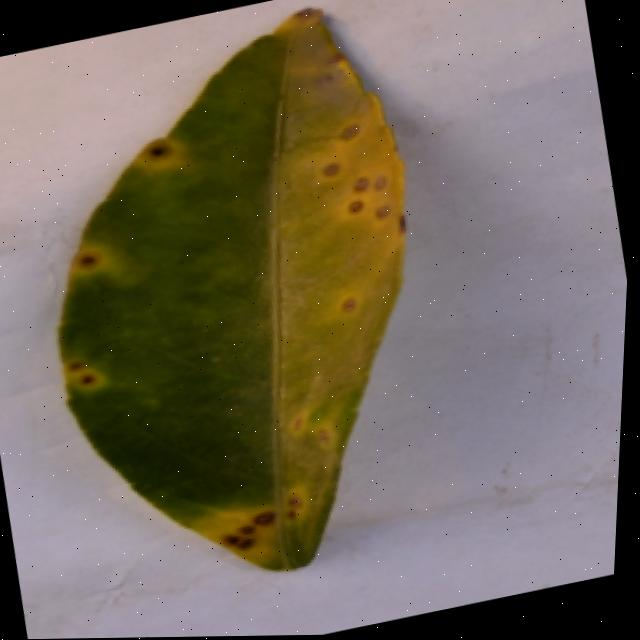canker: (61, 9, 407, 567), (198, 424, 346, 594), (318, 54, 408, 246), (50, 341, 115, 407), (56, 226, 113, 292), (127, 123, 183, 178), (327, 276, 364, 323)
